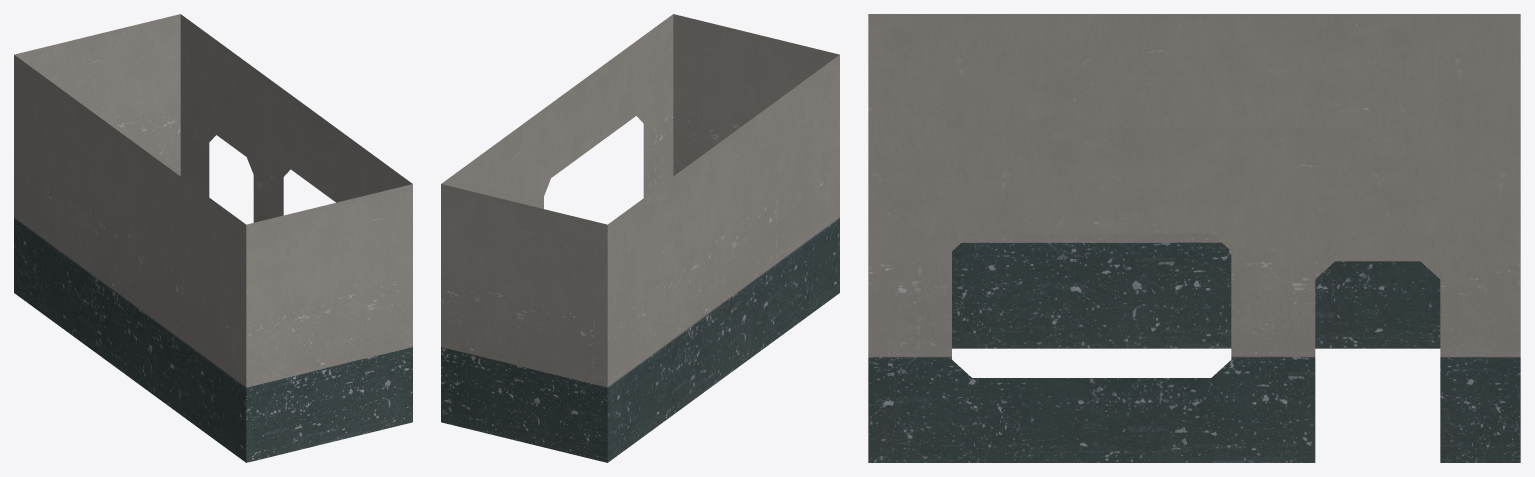
Rendered from TR_Wall02.FBX.
3 renders of one model, left to right at view 1: azimuth 30°, elevation 25°; view 2: azimuth 150°, elevation 25°; view 3: azimuth 270°, elevation 25°, orthographic. The views are drawn at different scales.
Visible parts, largest first — view 1: TR_Wall02; view 2: TR_Wall02; view 3: TR_Wall02.
Boxes of the visible parts, box(x1,y1,x2,y2) form: TR_Wall02: box(14, 14, 412, 462); TR_Wall02: box(441, 14, 839, 462); TR_Wall02: box(868, 14, 1520, 462).
Size of the model in its own units: 270 by 369 by 652.
